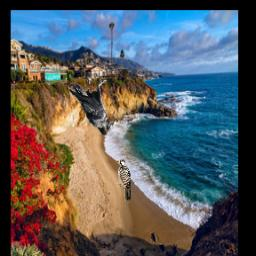Crow: (68, 75, 114, 137)
Woodpecker: (116, 159, 132, 203)
